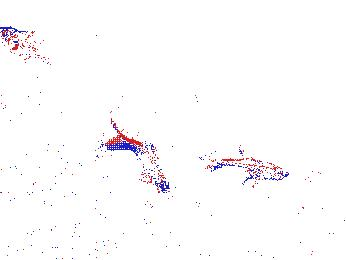X-ray fish: (1, 25, 47, 62), (318, 220, 346, 250)
redtail glassfish: (108, 124, 172, 196), (203, 154, 290, 182)
